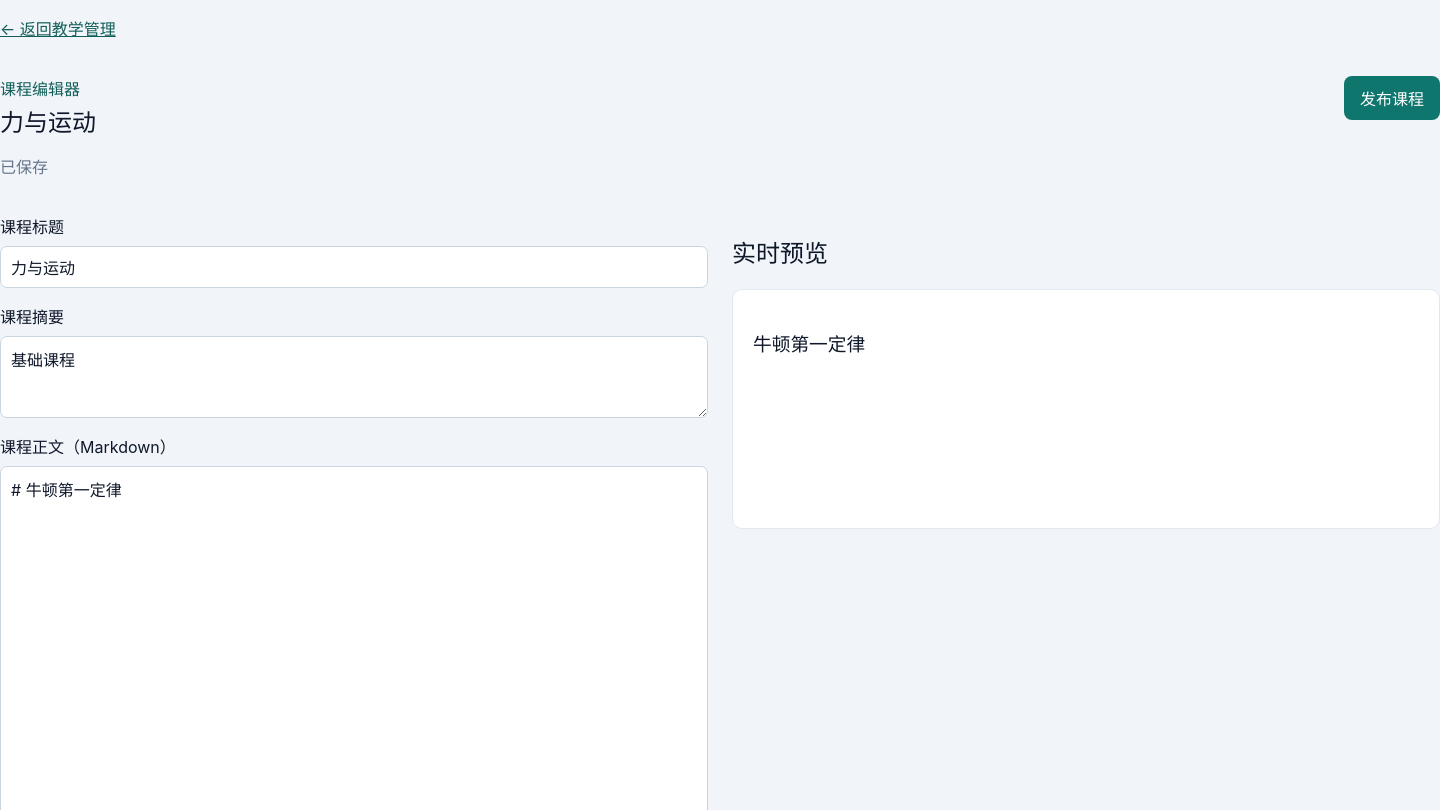
Test: LessonEditorView › blocks incomplete publication and publishes a clean valid draft after confirmation
This screenshot has width=1440, height=810.
Click the button with aria-label "发布课程" at (1392, 98), box [1344, 76, 1439, 120]
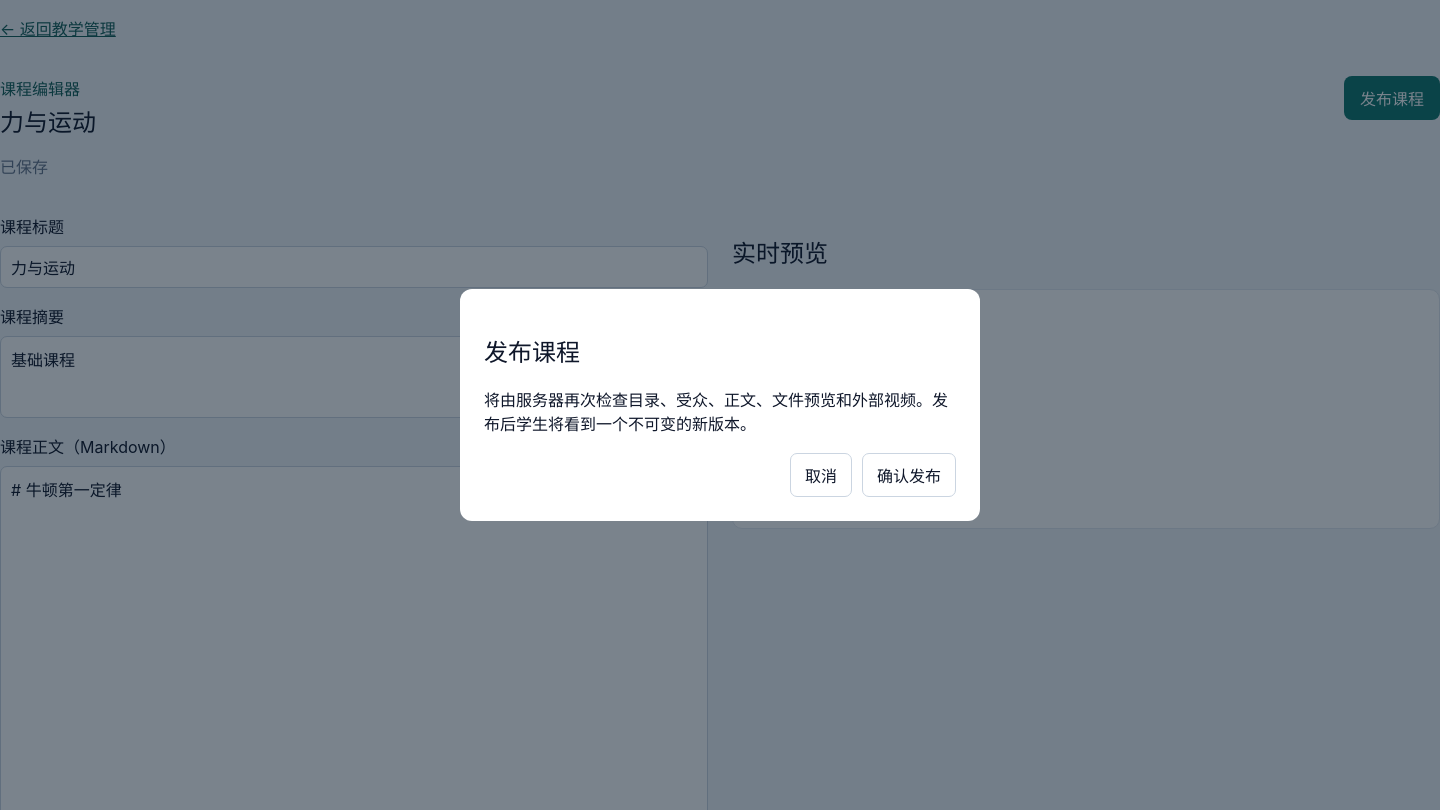
Check: the dialog shows "目录、受众、正文、文件预览和外部视频", box [484, 390, 948, 434]
Click the button with aria-label "确认发布课程" at (909, 475), box [862, 453, 956, 497]
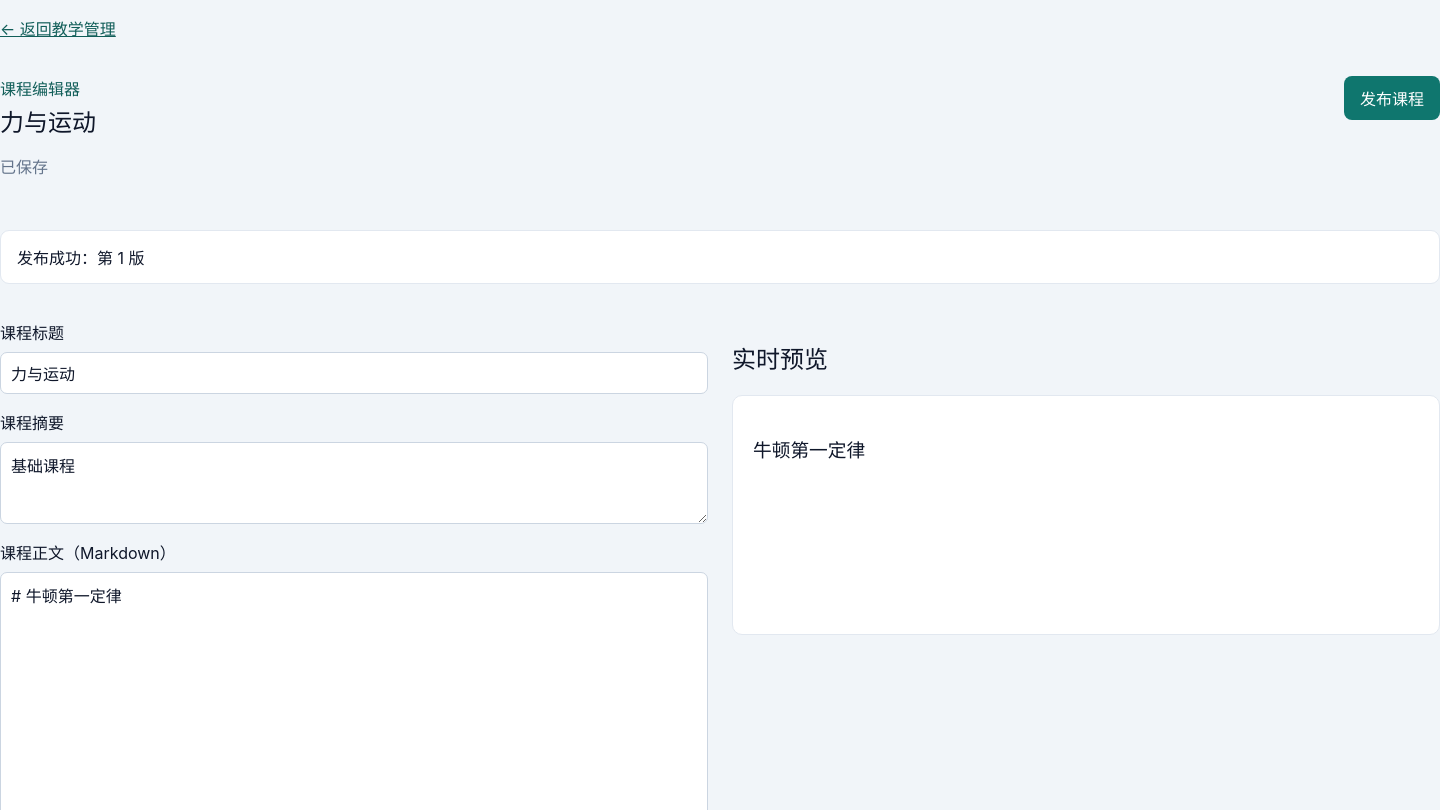
Check: the text "发布成功" is shown, box [17, 248, 144, 268]
